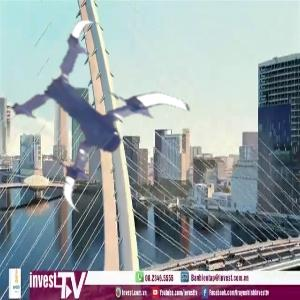drone: (9, 37, 187, 215)
